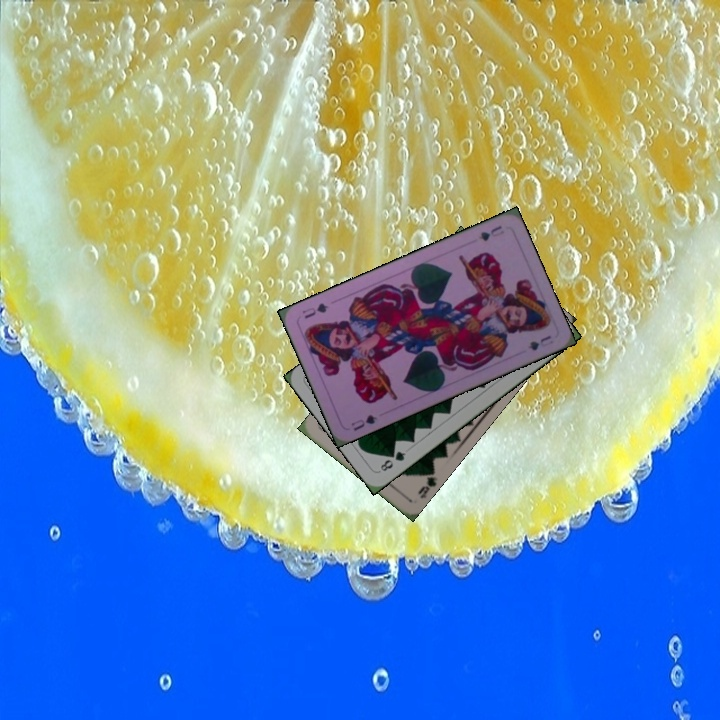G8: (375, 447, 408, 474)
G9: (414, 466, 440, 501)
GU: (347, 410, 380, 434), (474, 221, 507, 244)
